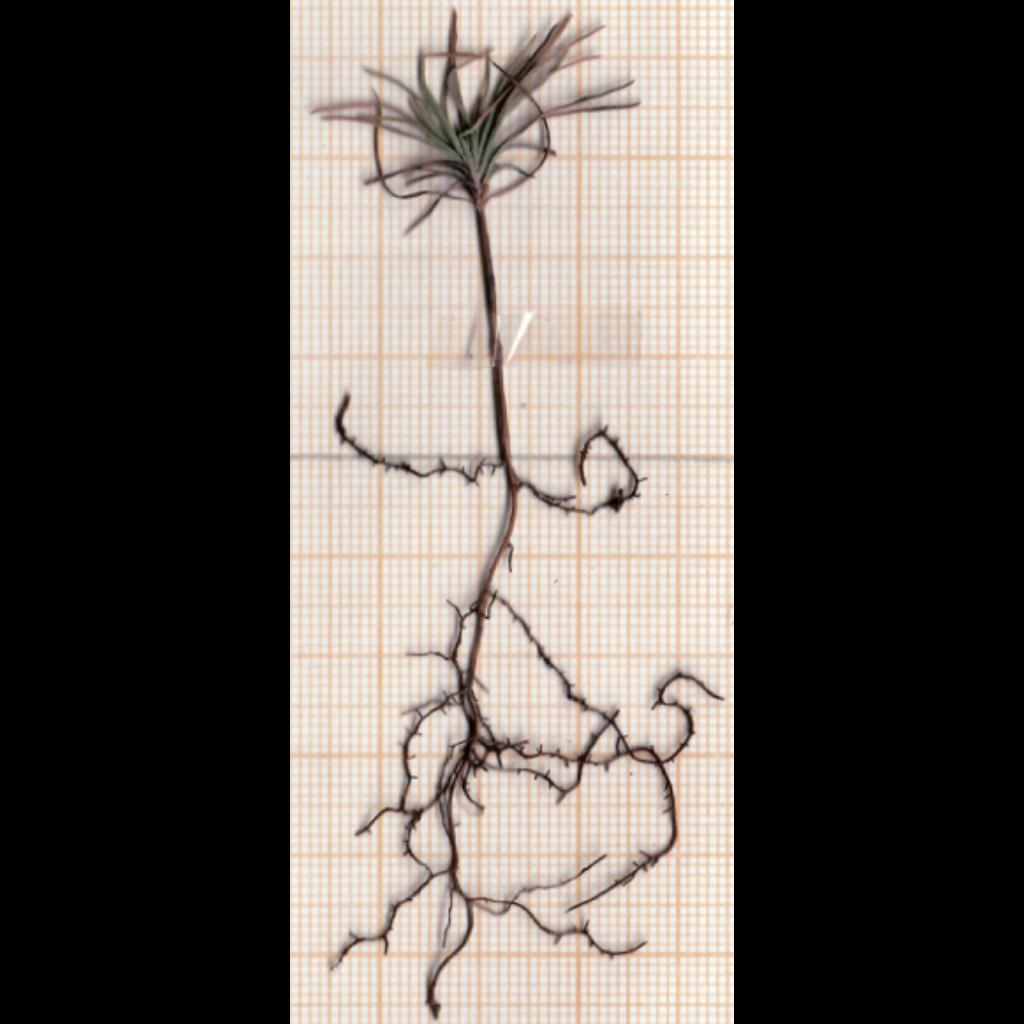flowerPinus: (313, 11, 637, 232)
rootPinus: (336, 395, 721, 1018)
stemPinus: (475, 207, 510, 460)
